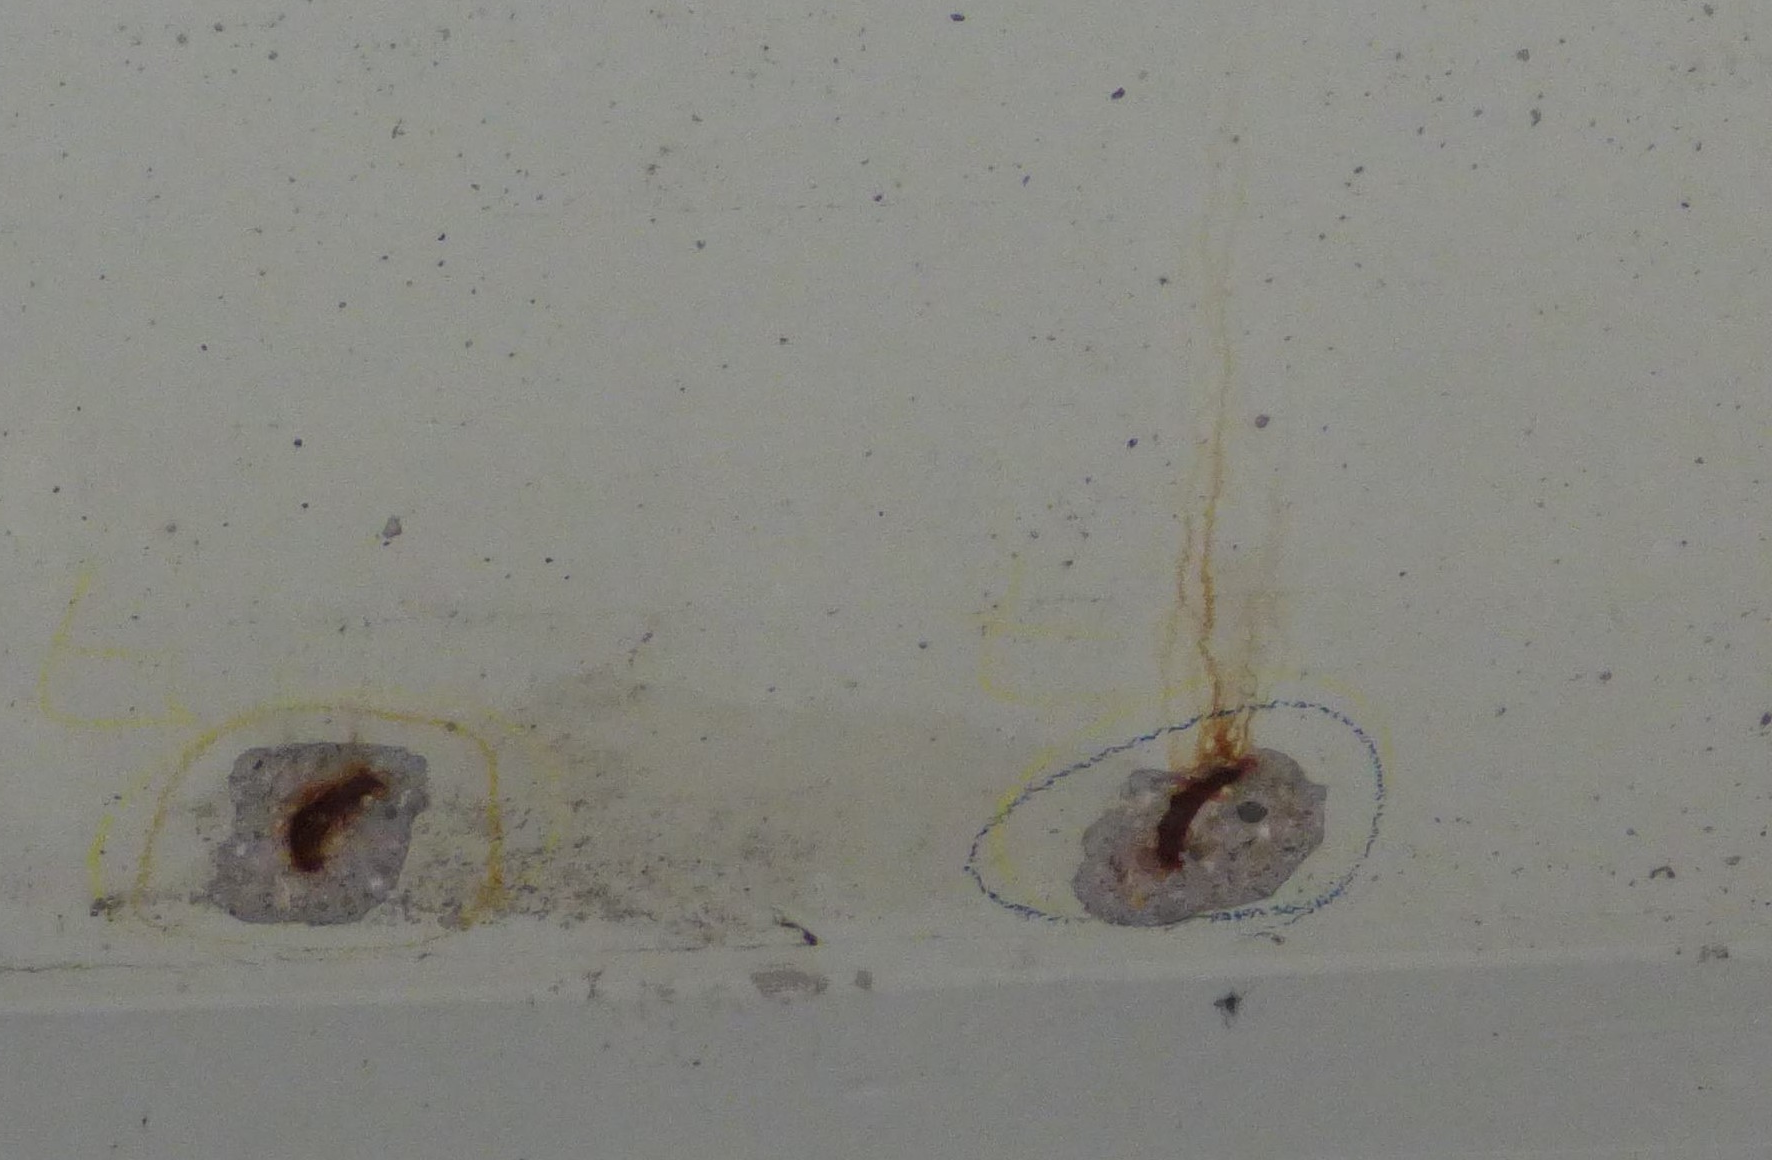Exposed reinforcement: (289, 774, 384, 871), (1156, 768, 1245, 870)
Spalling: (1073, 747, 1328, 928), (208, 742, 434, 927)
